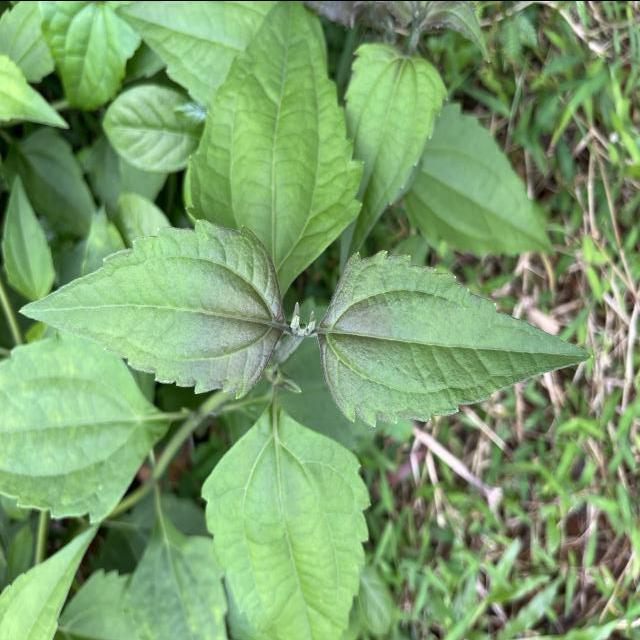Chromolaena odorata: (312, 242, 600, 434), (15, 213, 292, 403)
